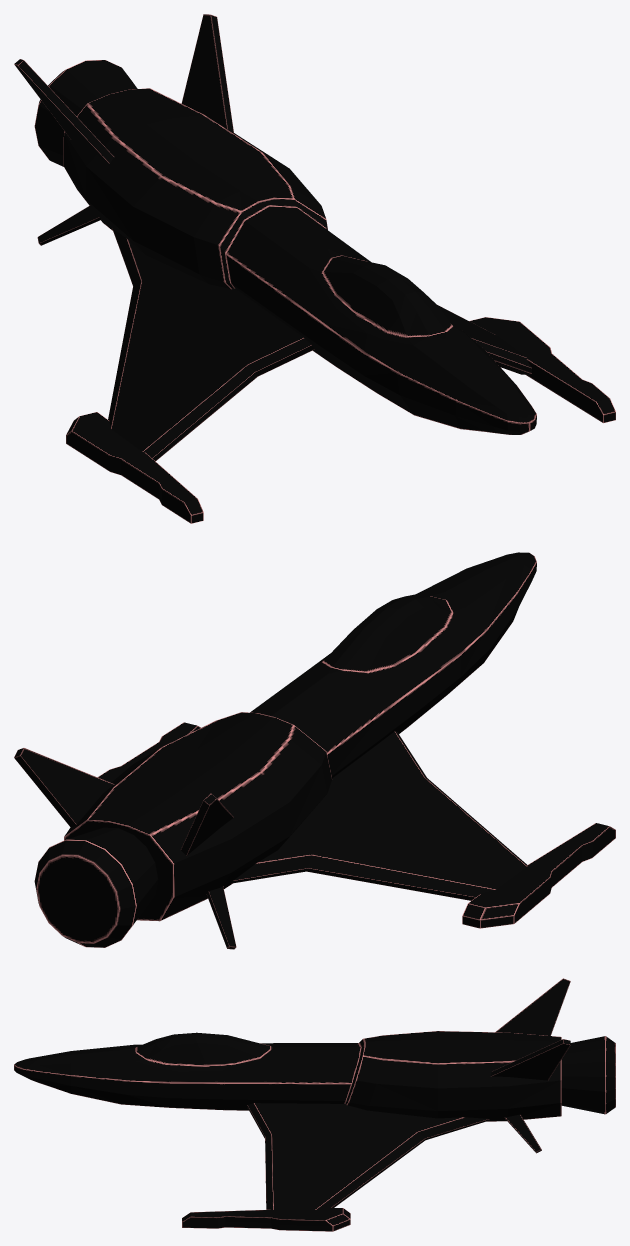
The model's file is rocket.obj.
3 views of the same model, one above another, from view 1: azimuth 30°, elevation 25°; view 2: azimuth 150°, elevation 25°; view 3: azimuth 270°, elevation 25° (orthographic). The views are drawn at different scales.
Parts seen in each view (by area): view 1: StarSparrow13; view 2: StarSparrow13; view 3: StarSparrow13.
Part boxes in pixels (left/top/right/bottom): StarSparrow13: left=14, top=14, right=615, bottom=523; StarSparrow13: left=14, top=552, right=615, bottom=949; StarSparrow13: left=14, top=978, right=615, bottom=1231.
Size of the model in its own units: 6.16 by 2.96 by 10.74.
